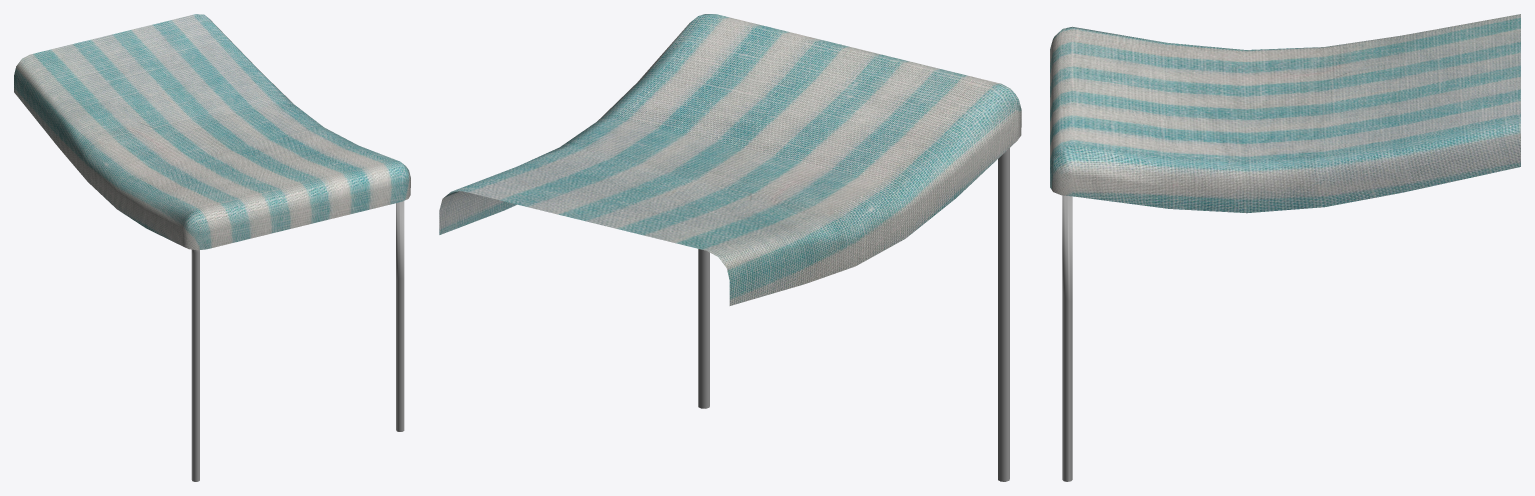
Rendered from tent_big.fbx.
3 renders of one model, left to right at view 1: azimuth 30°, elevation 25°; view 2: azimuth 150°, elevation 25°; view 3: azimuth 270°, elevation 25°, orthographic. The views are drawn at different scales.
Parts seen in each view (by area): view 1: polySurface19, polySurface5, polySurface2, polySurface6, polySurface3, polySurface1; view 2: polySurface19, polySurface5, polySurface6, polySurface2; view 3: polySurface19, polySurface6, polySurface3, polySurface1.
Part boxes in pixels (<box>): polySurface19: <box>14,14,410,250</box>; polySurface5: <box>191,337,199,481</box>; polySurface2: <box>191,252,199,344</box>; polySurface6: <box>396,340,404,431</box>; polySurface3: <box>396,201,404,281</box>; polySurface1: <box>396,278,404,352</box>; polySurface19: <box>439,14,1021,305</box>; polySurface5: <box>998,272,1009,481</box>; polySurface6: <box>698,263,709,408</box>; polySurface2: <box>998,148,1009,276</box>; polySurface19: <box>1050,14,1520,213</box>; polySurface6: <box>1062,360,1072,481</box>; polySurface3: <box>1062,195,1072,301</box>; polySurface1: <box>1062,292,1072,375</box>.
Bounding box in the file's own units: 62.72 × 76.03 × 92.14.
